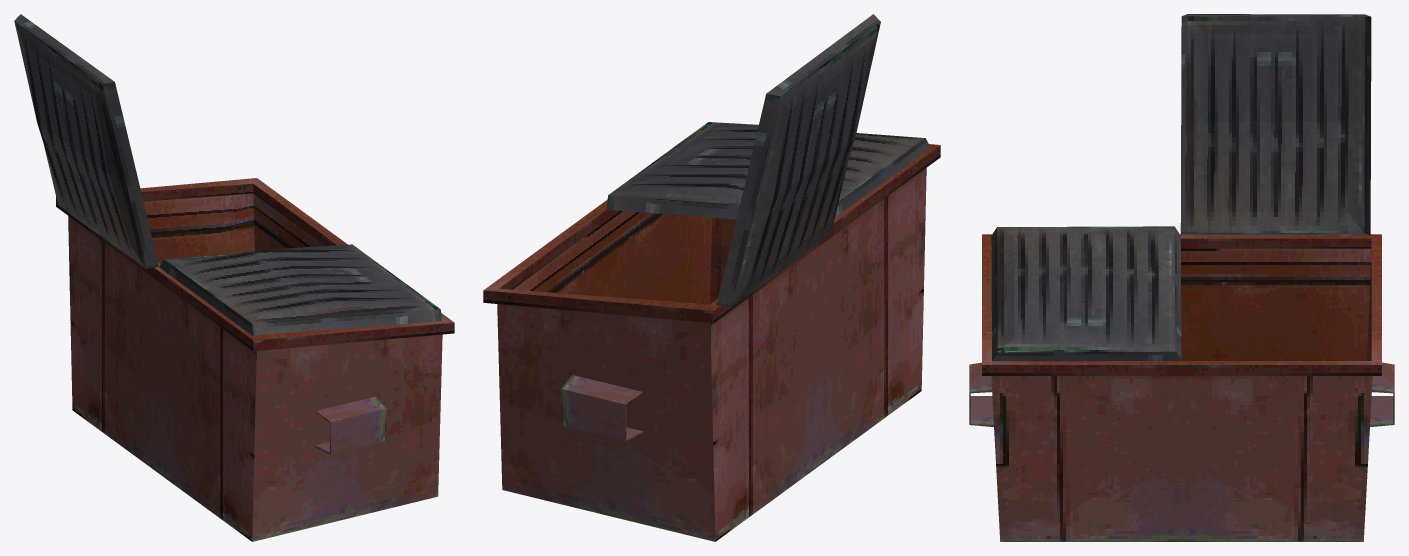
Rendered from dumpster_diagonal_empty_open_red.glb.
The picture shows the model from 3 angles, left to right: view 1: azimuth 30°, elevation 25°; view 2: azimuth 150°, elevation 25°; view 3: azimuth 270°, elevation 25°; orthographic projection. The views are drawn at different scales.
Parts seen in each view (by area): view 1: dumpster_diagonal_empty_open_red; view 2: dumpster_diagonal_empty_open_red; view 3: dumpster_diagonal_empty_open_red.
Boxes of the visible parts, x1,y1,x2,y2 form: dumpster_diagonal_empty_open_red: (14, 14, 454, 541); dumpster_diagonal_empty_open_red: (483, 14, 940, 541); dumpster_diagonal_empty_open_red: (969, 14, 1394, 541).
Size of the model in its own units: 2.53 by 3.91 by 3.67.
1 material, 1 textured.
